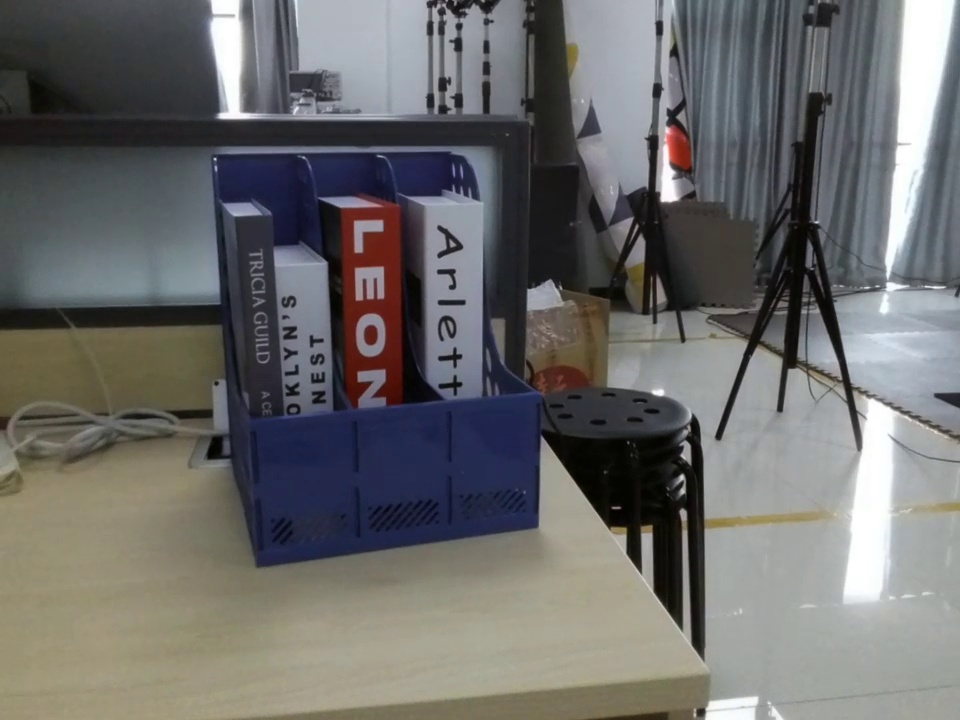files: (209, 148, 544, 570)
